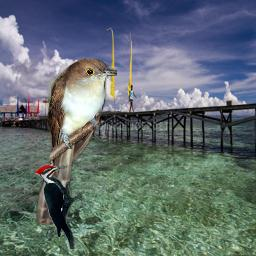Cuckoo: (36, 57, 117, 225)
Woodpecker: (35, 163, 85, 249)
